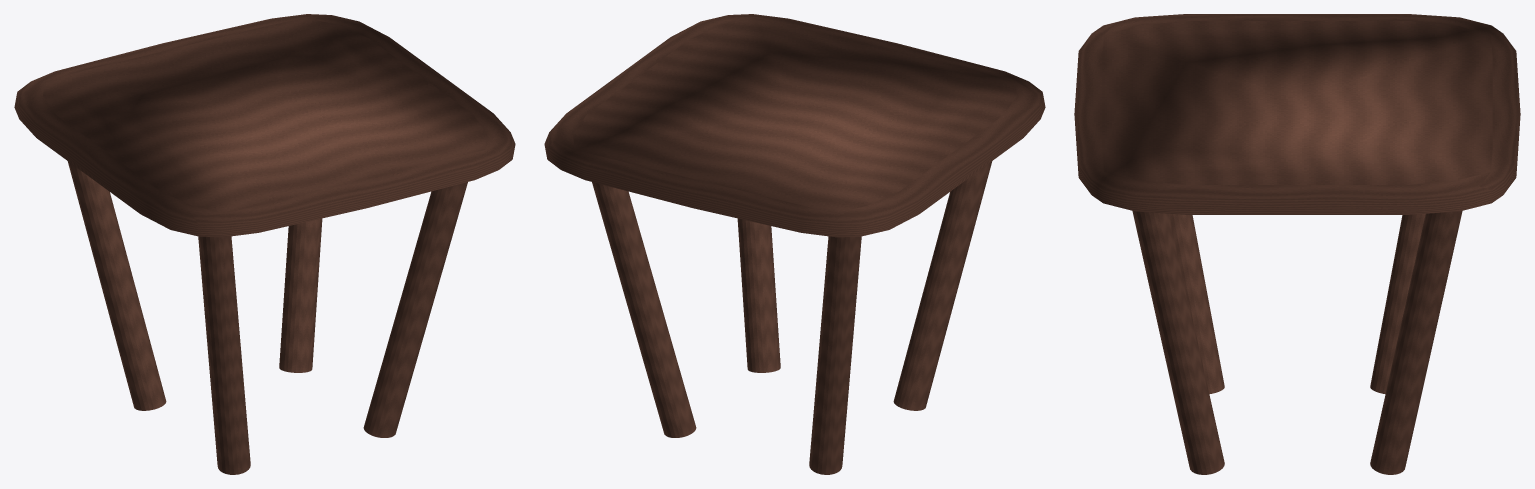
The picture shows the model from 3 angles, left to right: view 1: azimuth 30°, elevation 25°; view 2: azimuth 150°, elevation 25°; view 3: azimuth 270°, elevation 25°; orthographic projection. The views are drawn at different scales.
Visible parts, largest first — view 1: 1 tabletop, 3 front_right_leg, 4 back_left_leg, 2 front_left_leg, 5 back_right_leg; view 2: 1 tabletop, 5 back_right_leg, 2 front_left_leg, 4 back_left_leg, 3 front_right_leg; view 3: 1 tabletop, 3 front_right_leg, 5 back_right_leg, 2 front_left_leg, 4 back_left_leg.
Boxes of the visible parts, x1,y1,x2,y2 form: 1 tabletop: (14,14,515,237); 3 front_right_leg: (363,182,467,437); 4 back_left_leg: (67,161,166,410); 2 front_left_leg: (198,236,250,474); 5 back_right_leg: (279,218,322,372); 1 tabletop: (544,14,1045,237); 5 back_right_leg: (592,182,696,437); 2 front_left_leg: (893,161,992,410); 4 back_left_leg: (809,236,861,474); 3 front_right_leg: (737,218,780,372); 1 tabletop: (1074,14,1520,214); 3 front_right_leg: (1132,211,1224,474); 5 back_right_leg: (1370,211,1462,474); 2 front_left_leg: (1169,213,1224,394); 4 back_left_leg: (1370,213,1425,394).
Bounding box in the file's own units: 1.23 × 1 × 1.23.
1 material, 1 textured.
